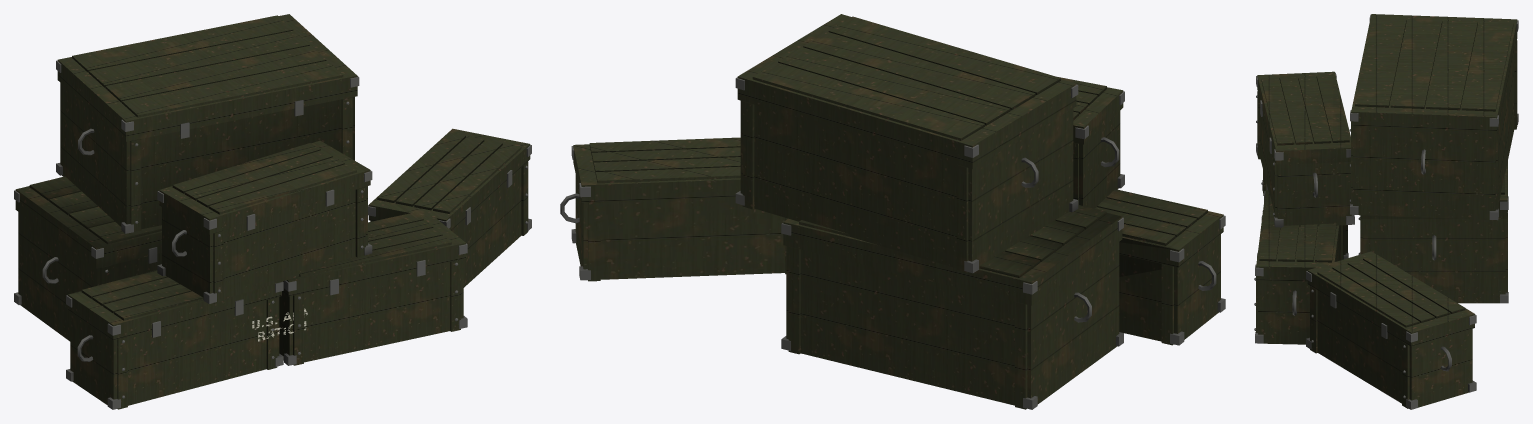
Rendered from crate_stack.glb.
3 views of the same model, side by side, from view 1: azimuth 30°, elevation 25°; view 2: azimuth 150°, elevation 25°; view 3: azimuth 270°, elevation 25° (orthographic). The views are drawn at different scales.
Visible parts, largest first — view 1: Crate_Stack; view 2: Crate_Stack; view 3: Crate_Stack.
Part boxes in pixels (box(x1,y1,x2,y2)): Crate_Stack: box(14, 14, 531, 409); Crate_Stack: box(560, 14, 1225, 409); Crate_Stack: box(1254, 14, 1518, 409).
Size of the model in its own units: 1.89 by 0.8081 by 0.9233.
Materials: 3 (2 with a texture image).
